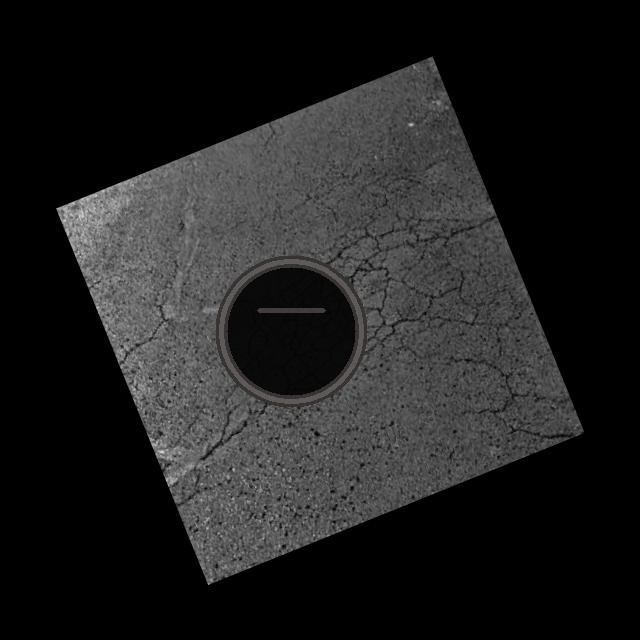open_manhole: (212, 252, 370, 410)
